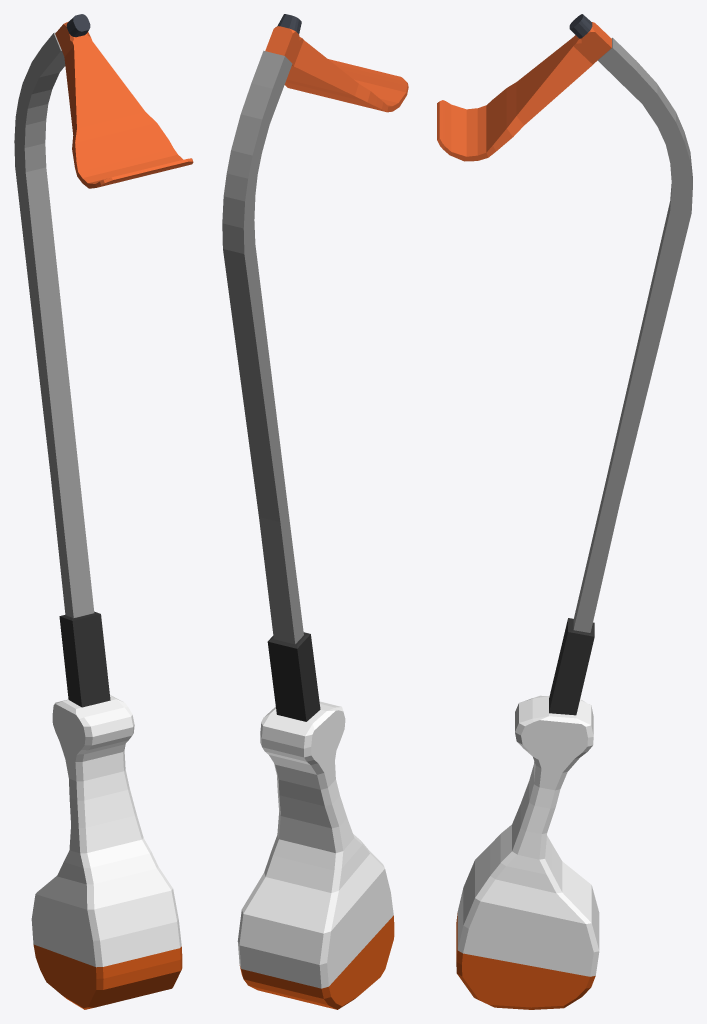
The model's file is Sthil Weed Eater Applied Transform.fbx.
3 renders of one model, left to right at view 1: azimuth 30°, elevation 25°; view 2: azimuth 150°, elevation 25°; view 3: azimuth 270°, elevation 25°, orthographic. The views are drawn at different scales.
Parts seen in each view (by area): view 1: Plane, Shield; view 2: Plane, Shield; view 3: Plane, Shield.
Part boxes in pixels (left/top/right/bottom): Plane: left=14, top=32, right=182, bottom=1009; Shield: left=55, top=14, right=193, bottom=188; Plane: left=222, top=50, right=394, bottom=1009; Shield: left=265, top=14, right=408, bottom=112; Plane: left=456, top=37, right=692, bottom=1009; Shield: left=437, top=14, right=611, bottom=161.
Size of the model in its own units: 45.72 by 436 by 104.
